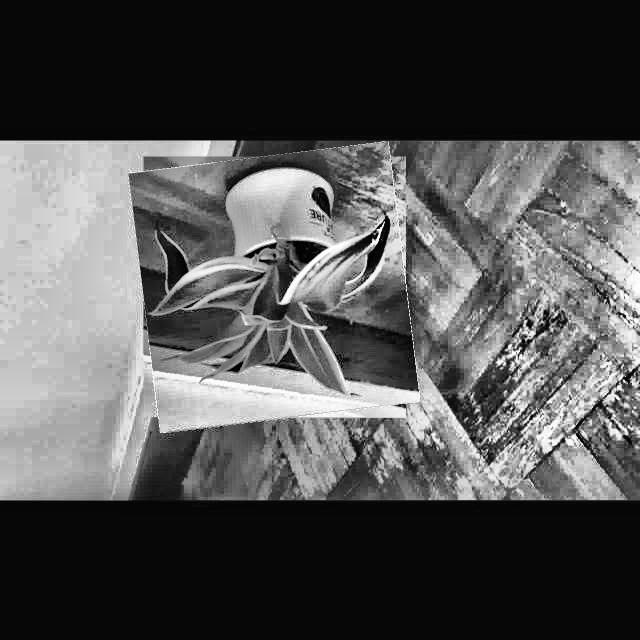plants: (136, 148, 413, 425)
